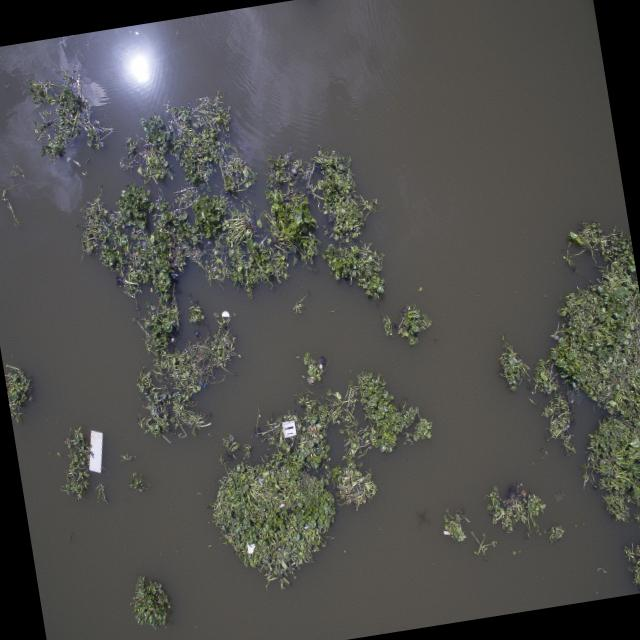Plastic: (85, 427, 110, 478), (280, 420, 300, 440), (220, 308, 232, 328), (242, 540, 256, 554), (316, 356, 328, 372)
